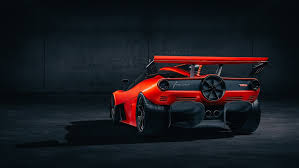car: (111, 55, 265, 135)
